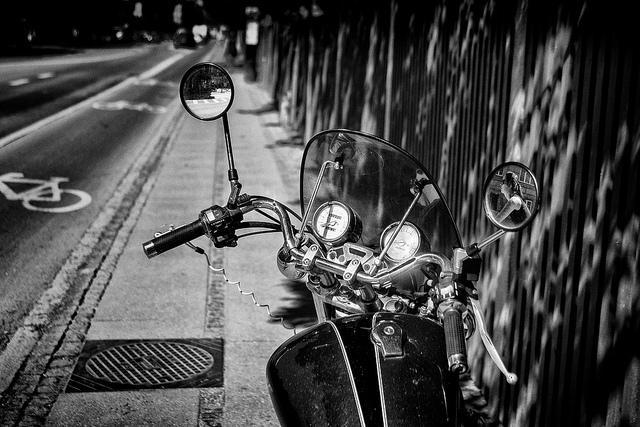motorcycle: (135, 61, 538, 422)
